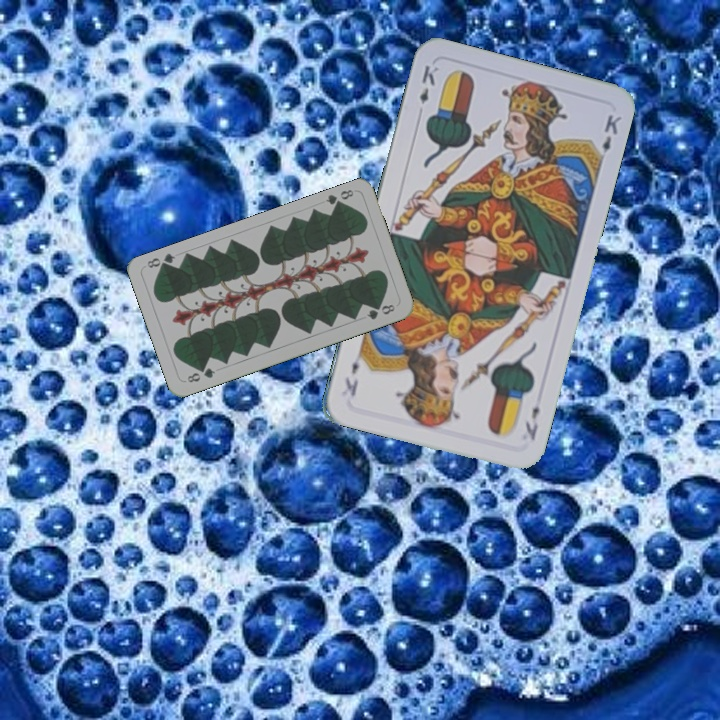EK: (414, 61, 441, 119), (521, 390, 545, 443)
G8: (322, 185, 356, 211), (183, 364, 218, 385)
